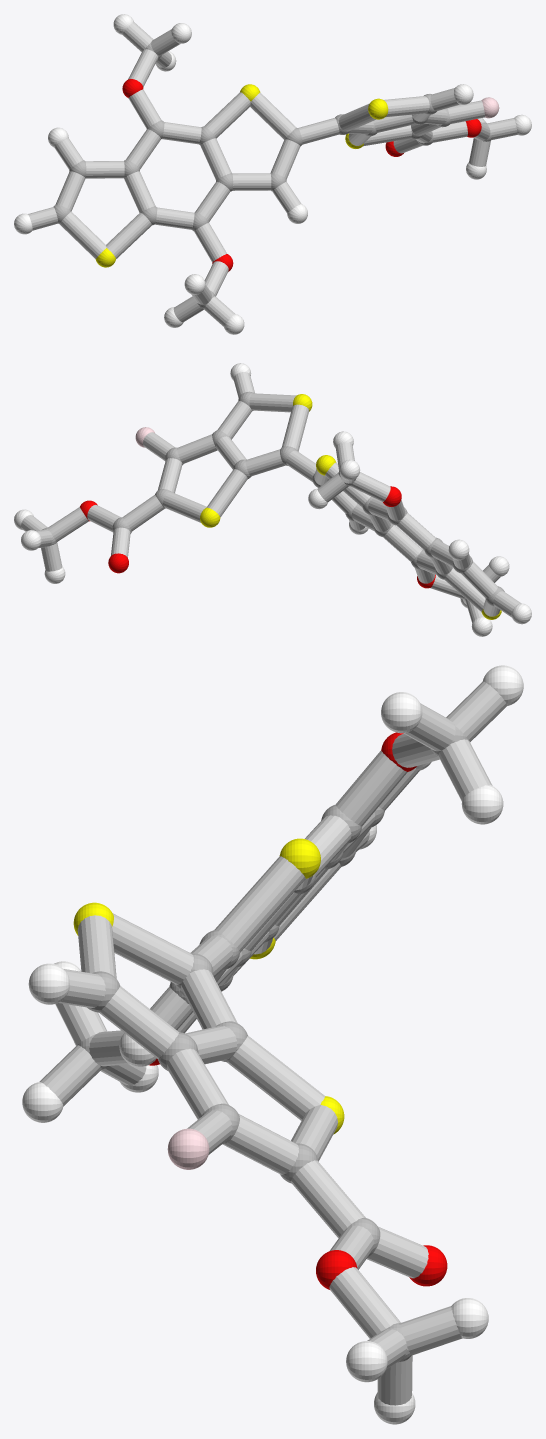
The model's file is Dimethoxy_Benzodithiophene_Phi_5_Theta_270_Methylcarbonyl_3_Fluoro_Thienothiophene.glb.
The picture shows the model from 3 angles, top to bottom: view 1: azimuth 30°, elevation 25°; view 2: azimuth 150°, elevation 25°; view 3: azimuth 270°, elevation 25°; orthographic projection. The views are drawn at different scales.
Visible parts, largest first — view 1: grp15205, grp8689, grp1, grp7241, grp13395; view 2: grp15205, grp8689, grp1, grp7241, grp13395; view 3: grp15205, grp8689, grp1, grp13395, grp7241, grp14843.
Boxes of the visible parts, bbox=[...] form: grp15205: bbox=[28, 22, 517, 326]; grp8689: bbox=[14, 14, 531, 334]; grp1: bbox=[53, 42, 490, 308]; grp7241: bbox=[95, 84, 388, 267]; grp13395: bbox=[122, 79, 481, 271]; grp15205: bbox=[21, 372, 521, 622]; grp8689: bbox=[14, 363, 531, 636]; grp1: bbox=[42, 391, 504, 606]; grp7241: bbox=[200, 394, 501, 619]; grp13395: bbox=[80, 486, 435, 588]; grp15205: bbox=[39, 681, 507, 1405]; grp8689: bbox=[22, 665, 523, 1424]; grp1: bbox=[77, 724, 467, 1362]; grp13395: bbox=[149, 732, 447, 1289]; grp7241: bbox=[73, 838, 344, 1134]; grp14843: bbox=[167, 1128, 209, 1169].
Bounding box in the file's own units: 17.06 × 7.44 × 7.23.
